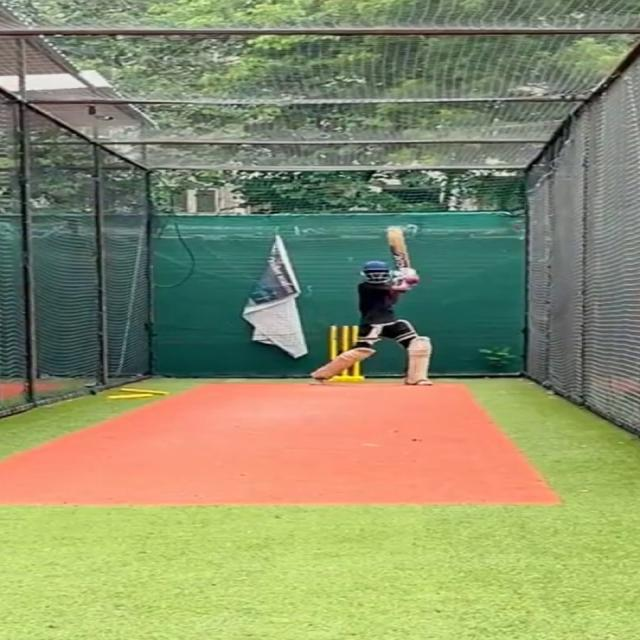stump: (326, 323, 365, 382)
